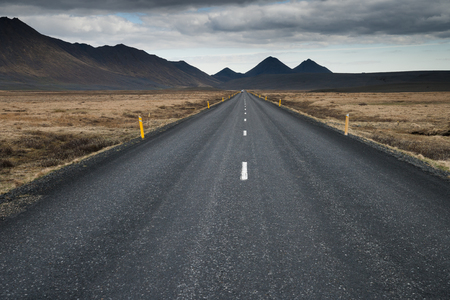straightRoad: (164, 98, 357, 300)
